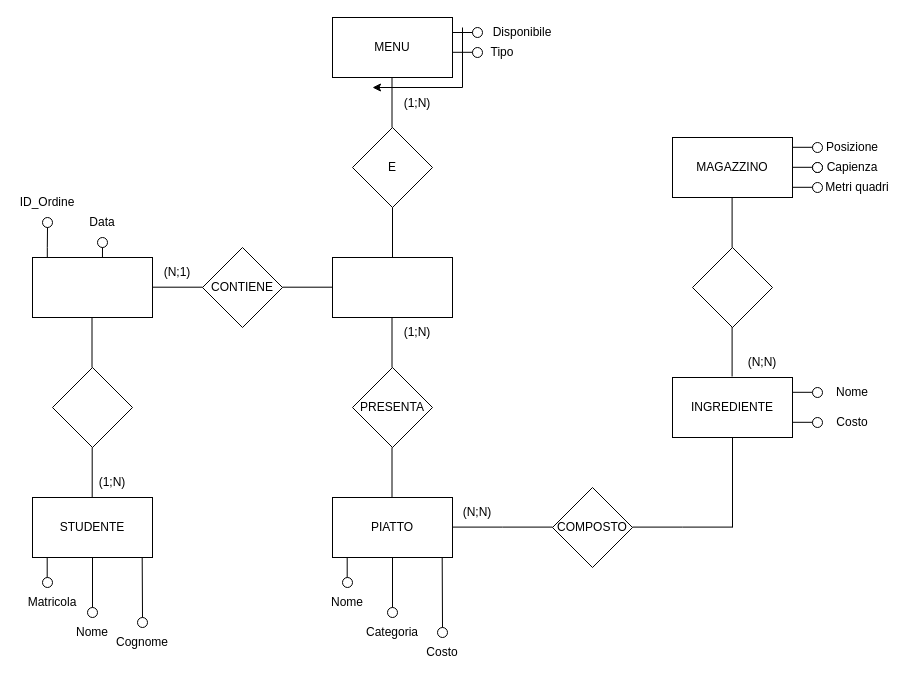
The diagram is 909 pixels wide and 685 high, and some of its shapes have lost their labels. Here are the shapes that lost their labels. From the top down, the centre of each, then its label:
At (92,287): "ORDINE".
At (392,287): "MENU DEL GIORNO".
At (732,287): "SI TROVA".
At (92,407): "EFFETTUA".
